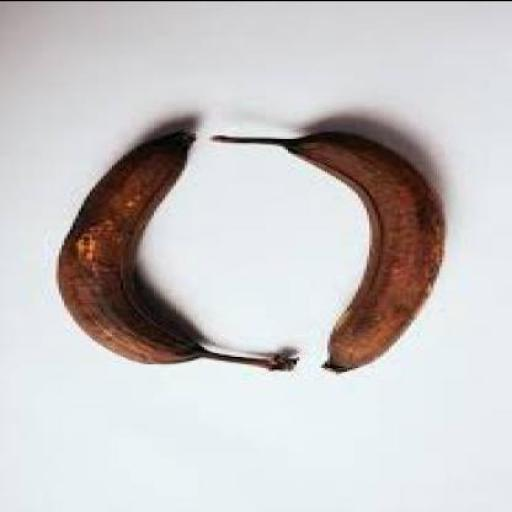biodegradable: (56, 130, 302, 372), (216, 132, 447, 374)
